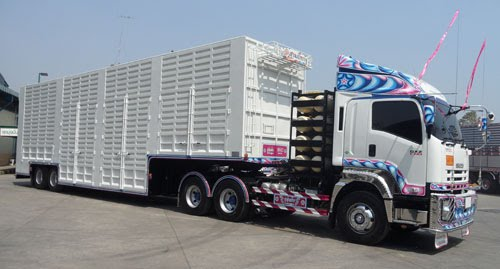truck: (168, 54, 479, 249)
